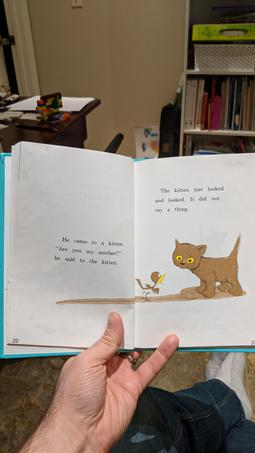text block: (45, 226, 131, 270), (142, 182, 232, 218)
